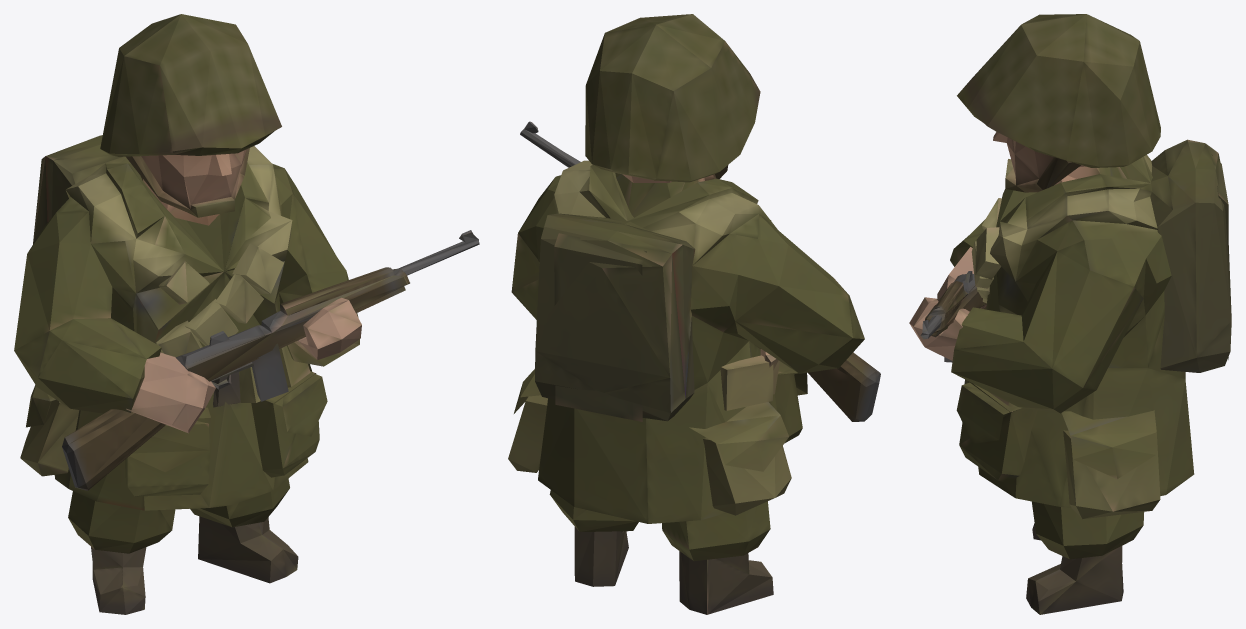
Rendered from bulge_us_airborne_2.glb.
3 views of the same model, side by side, from view 1: azimuth 30°, elevation 25°; view 2: azimuth 150°, elevation 25°; view 3: azimuth 270°, elevation 25° (orthographic).
Parts seen in each view (by area): view 1: geometry_0; view 2: geometry_0; view 3: geometry_0.
Part boxes in pixels (x1,y1,x2,y2): geometry_0: [14, 14, 479, 614]; geometry_0: [508, 14, 880, 614]; geometry_0: [909, 14, 1231, 614].
Size of the model in its own units: 0.2412 by 0.324 by 0.1702.
1 material, 1 textured.
